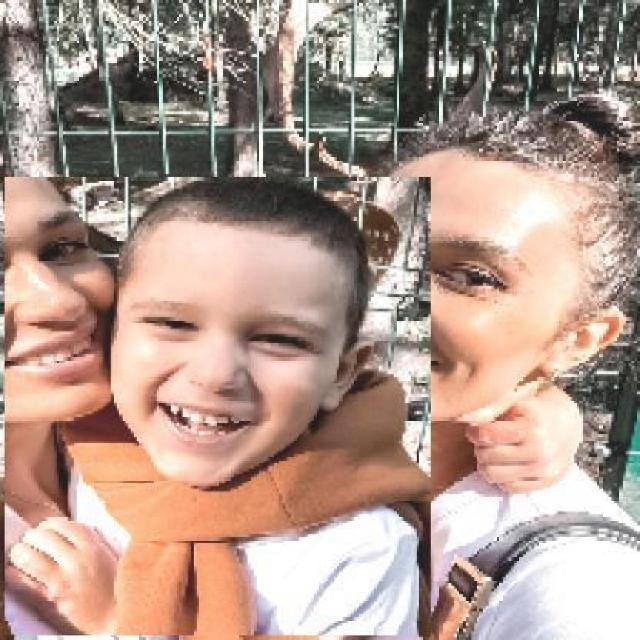child: (3, 177, 431, 637)
